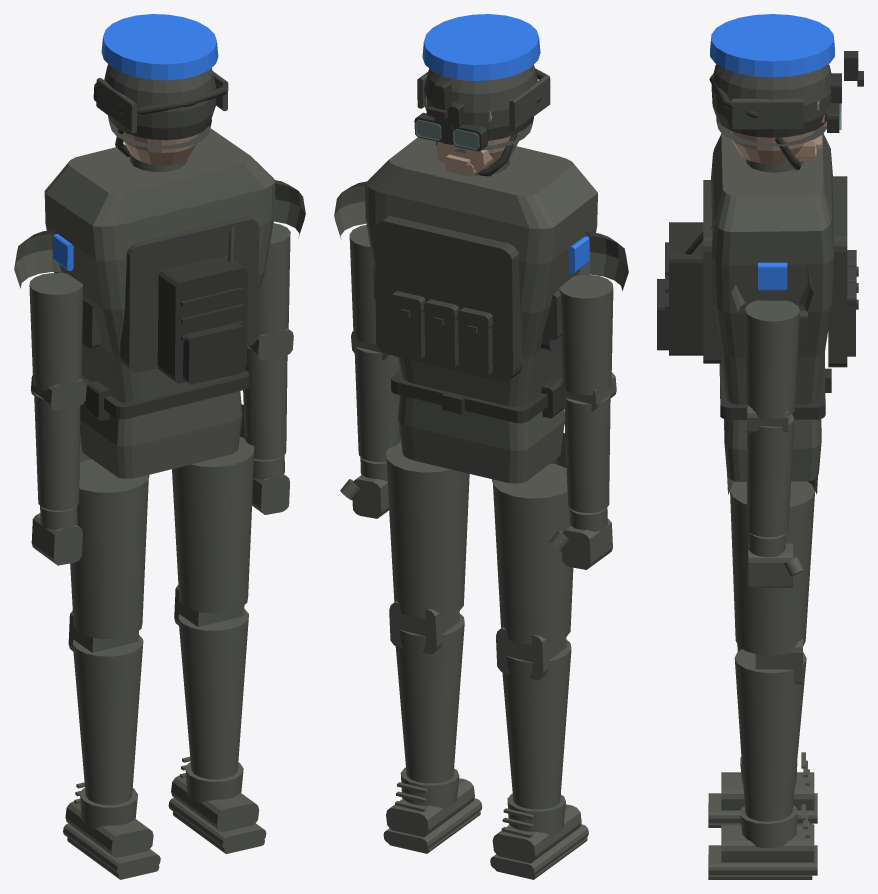
The model's file is human_blue.glb.
3 views of the same model, side by side, from view 1: azimuth 30°, elevation 25°; view 2: azimuth 150°, elevation 25°; view 3: azimuth 270°, elevation 25° (orthographic).
Parts seen in each view (by area): view 1: human_blue__human_blue__torso, human_blue__human_blue__right_leg, human_blue__human_blue__left_leg, human_blue__human_blue__left_arm, human_blue__human_blue__right_arm, human_blue__human_blue__pack, human_blue__human_blue__vest, human_blue__human_blue__helmet, human_blue__human_blue__band, human_blue__human_blue__belt, human_blue__human_blue__skull, human_blue__human_blue__goggles (+1 smaller); view 2: human_blue__human_blue__torso, human_blue__human_blue__left_leg, human_blue__human_blue__right_leg, human_blue__human_blue__vest, human_blue__human_blue__left_arm, human_blue__human_blue__right_arm, human_blue__human_blue__band, human_blue__human_blue__helmet, human_blue__human_blue__belt, human_blue__human_blue__goggles, human_blue__human_blue__helmetgear, human_blue__human_blue__skull (+2 smaller); view 3: human_blue__human_blue__right_leg, human_blue__human_blue__torso, human_blue__human_blue__right_arm, human_blue__human_blue__helmet, human_blue__human_blue__band, human_blue__human_blue__vest, human_blue__human_blue__pack, human_blue__human_blue__left_leg, human_blue__human_blue__skull, human_blue__human_blue__belt, human_blue__human_blue__helmetgear, human_blue__human_blue__patch (+1 smaller).
Part boxes in pixels (box(x1,y1,x2,y2)): human_blue__human_blue__torso: box(44, 128, 275, 478); human_blue__human_blue__right_leg: box(168, 404, 266, 853); human_blue__human_blue__left_leg: box(63, 438, 160, 879); human_blue__human_blue__left_arm: box(14, 229, 86, 565); human_blue__human_blue__right_arm: box(243, 180, 305, 514); human_blue__human_blue__pack: box(157, 220, 247, 384); human_blue__human_blue__vest: box(58, 216, 259, 373); human_blue__human_blue__helmet: box(96, 64, 228, 149); human_blue__human_blue__band: box(101, 14, 218, 80); human_blue__human_blue__belt: box(81, 370, 249, 420); human_blue__human_blue__skull: box(123, 132, 198, 165); human_blue__human_blue__goggles: box(93, 82, 226, 114); human_blue__human_blue__torso: box(365, 137, 597, 483); human_blue__human_blue__left_leg: box(490, 433, 588, 879); human_blue__human_blue__right_leg: box(383, 416, 482, 853); human_blue__human_blue__vest: box(373, 216, 562, 381); human_blue__human_blue__left_arm: box(549, 232, 628, 569); human_blue__human_blue__right_arm: box(334, 181, 400, 518); human_blue__human_blue__band: box(422, 14, 540, 80); human_blue__human_blue__helmet: box(417, 65, 550, 150); human_blue__human_blue__belt: box(391, 370, 564, 423); human_blue__human_blue__goggles: box(414, 68, 546, 151); human_blue__human_blue__helmetgear: box(426, 80, 517, 176); human_blue__human_blue__skull: box(425, 96, 521, 176); human_blue__human_blue__right_leg: box(708, 458, 818, 879); human_blue__human_blue__torso: box(711, 133, 834, 481); human_blue__human_blue__right_arm: box(731, 268, 813, 587); human_blue__human_blue__helmet: box(711, 64, 831, 146); human_blue__human_blue__band: box(710, 14, 834, 77); human_blue__human_blue__vest: box(703, 176, 858, 367); human_blue__human_blue__pack: box(657, 222, 712, 355); human_blue__human_blue__left_leg: box(708, 645, 817, 827); human_blue__human_blue__skull: box(728, 100, 819, 163); human_blue__human_blue__belt: box(719, 354, 831, 419); human_blue__human_blue__helmetgear: box(774, 51, 863, 170); human_blue__human_blue__patch: box(758, 262, 787, 290).
Bounding box in the file's own units: 0.694 × 1.88 × 0.437.
